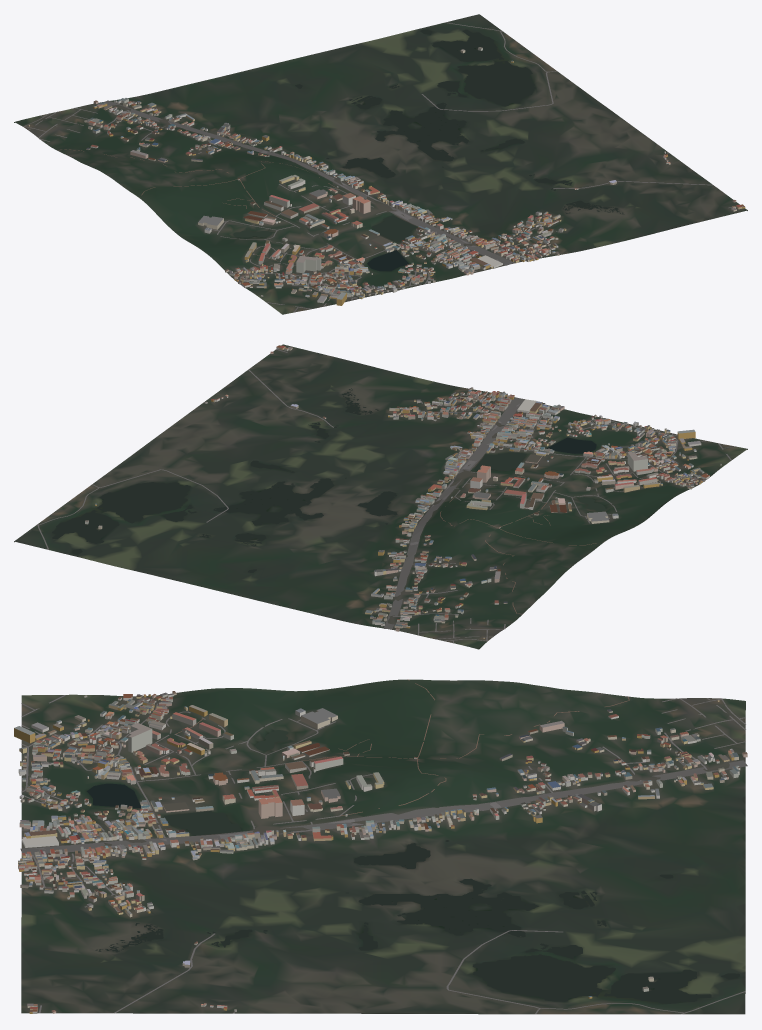
3 renders of one model, top to bottom at view 1: azimuth 30°, elevation 25°; view 2: azimuth 150°, elevation 25°; view 3: azimuth 270°, elevation 25°, orthographic. The views are drawn at different scales.
Parts seen in each view (by area): view 1: ground, buildings, water, roads; view 2: ground, buildings, water, roads; view 3: ground, buildings, water, roads.
Part boxes in pixels (x1,y1,x2,y2): ground: (14,14,747,314); buildings: (28,47,745,305); water: (233,29,624,271); roads: (23,22,731,312); ground: (14,344,747,649); buildings: (85,345,721,638); water: (52,388,605,572); roads: (37,349,736,642); ground: (21,679,745,1014); buildings: (14,691,747,1013); water: (86,730,739,1003); roads: (20,679,747,1014).
Size of the model in its own units: 1406 by 65.2 by 1421.
